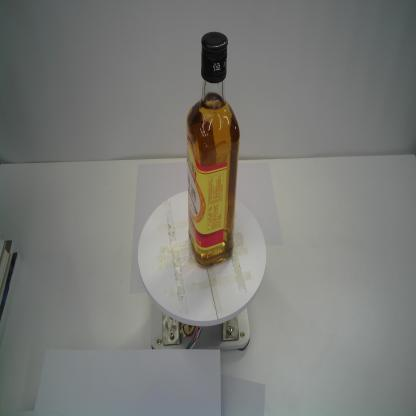Seasoner: (185, 31, 241, 270)
